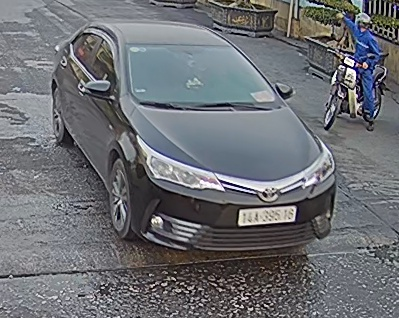vehicle plate: (237, 203, 297, 230)
